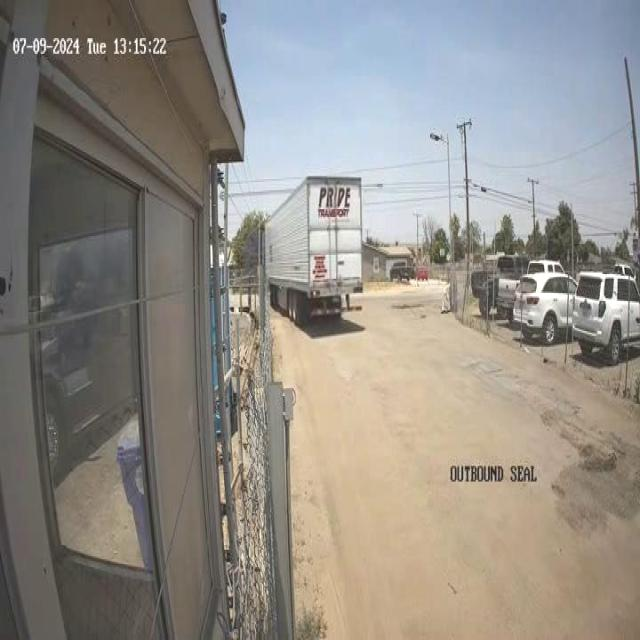CONTAINER: (264, 174, 363, 298)
